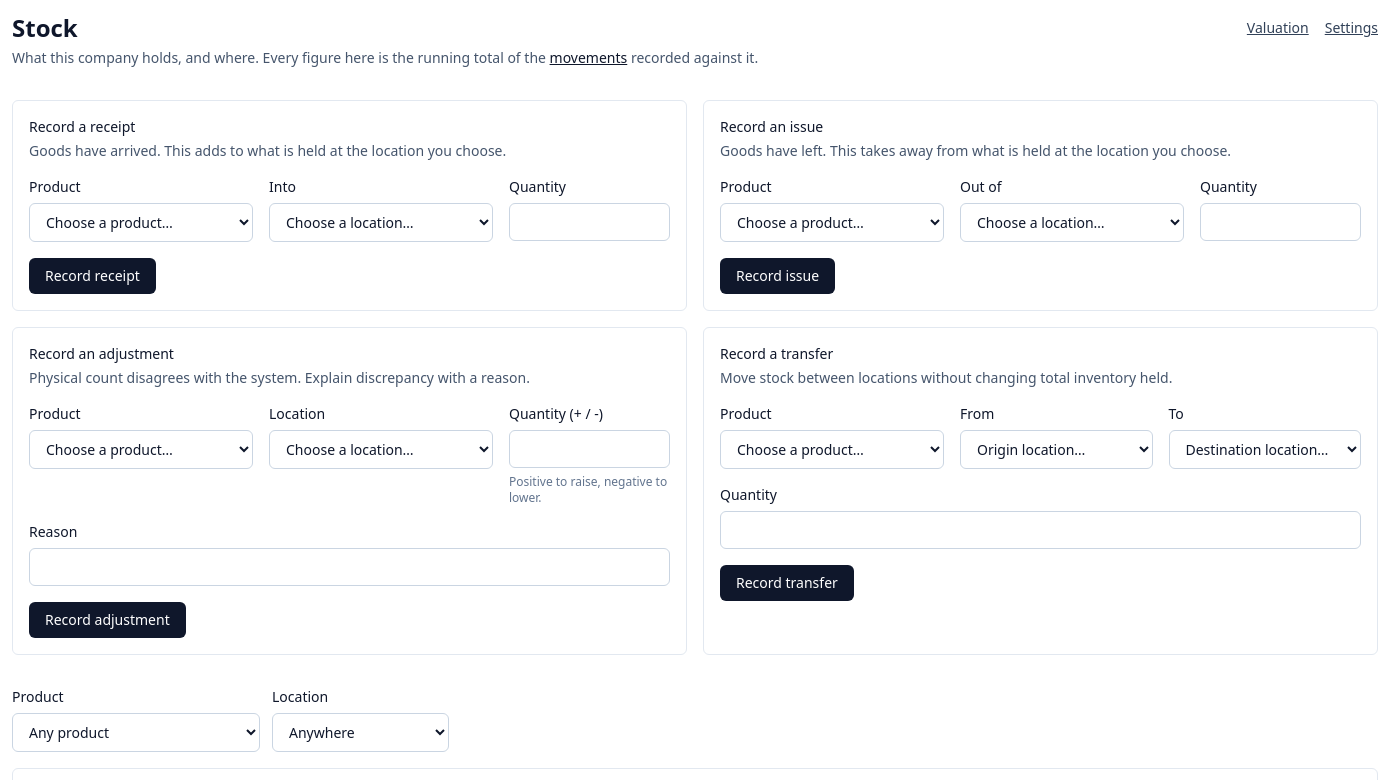
Test: StockPage › recording a receipt › shows a refusal that belongs to no particular box
Select "WIDGET-1 — WIDGET-1 widget" in the dropdown labelled "Product" below "Into" at [141, 222], box x1=29 y1=203 x2=253 y2=242
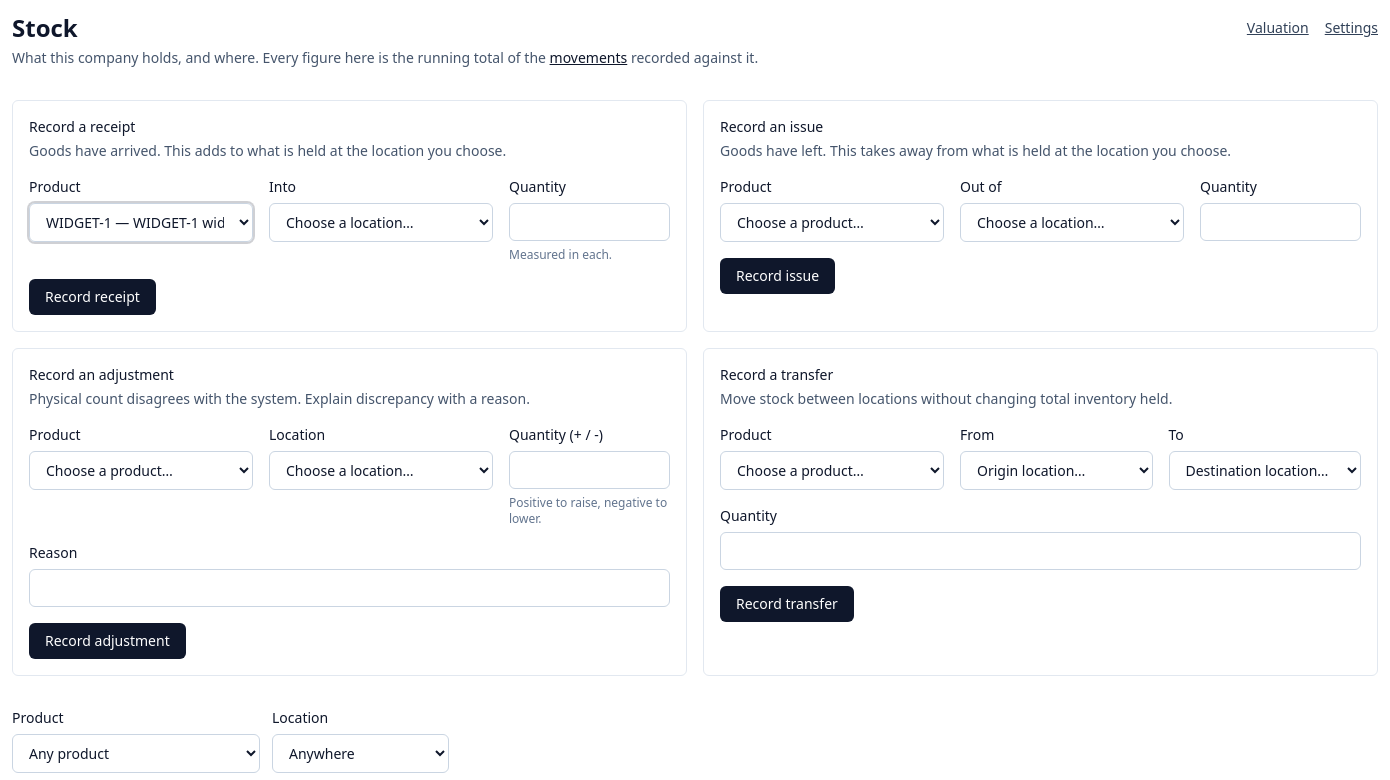
Select "WH-1 — WH-1 store" in the dropdown labelled "Into" at [381, 222], box x1=269 y1=203 x2=493 y2=242
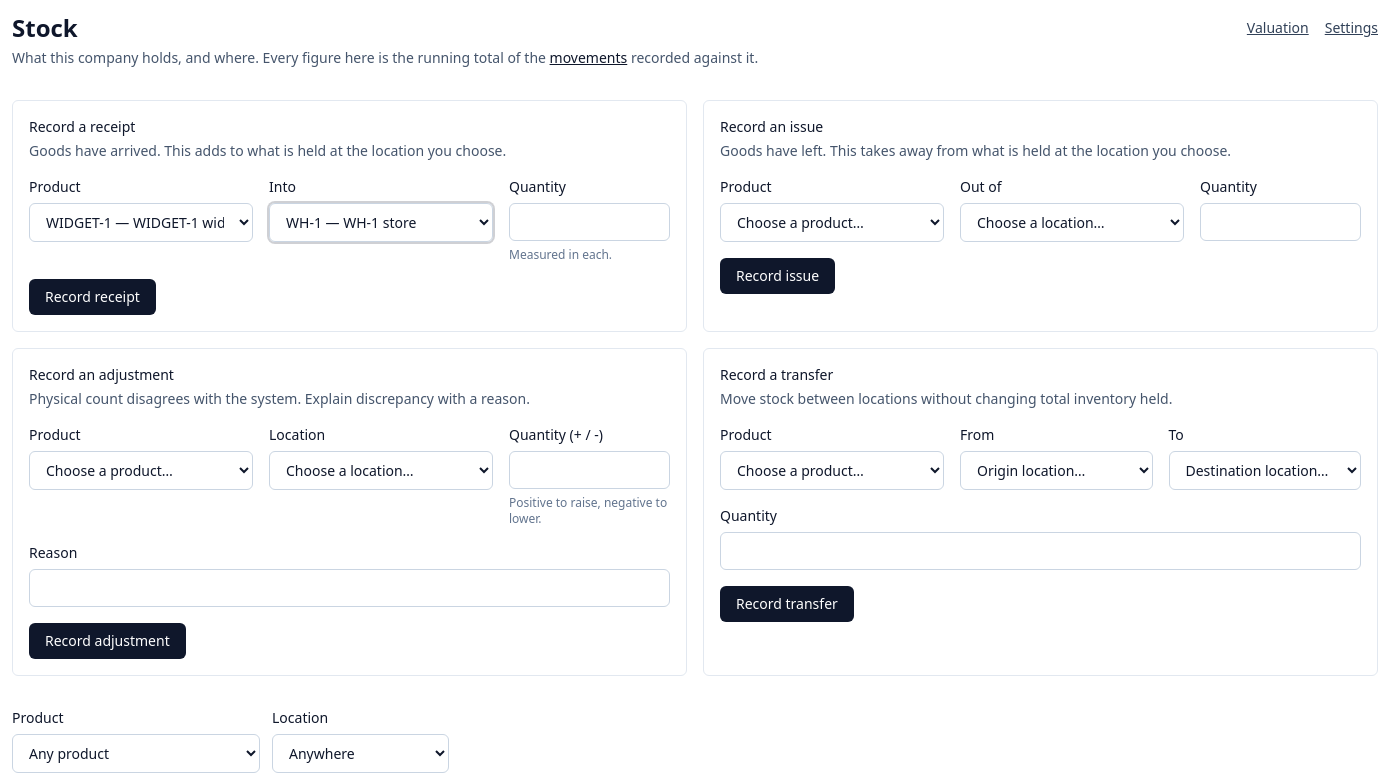
Type "1" into the field labelled "Quantity" below "Into" at [590, 222], box x1=509 y1=203 x2=670 y2=241
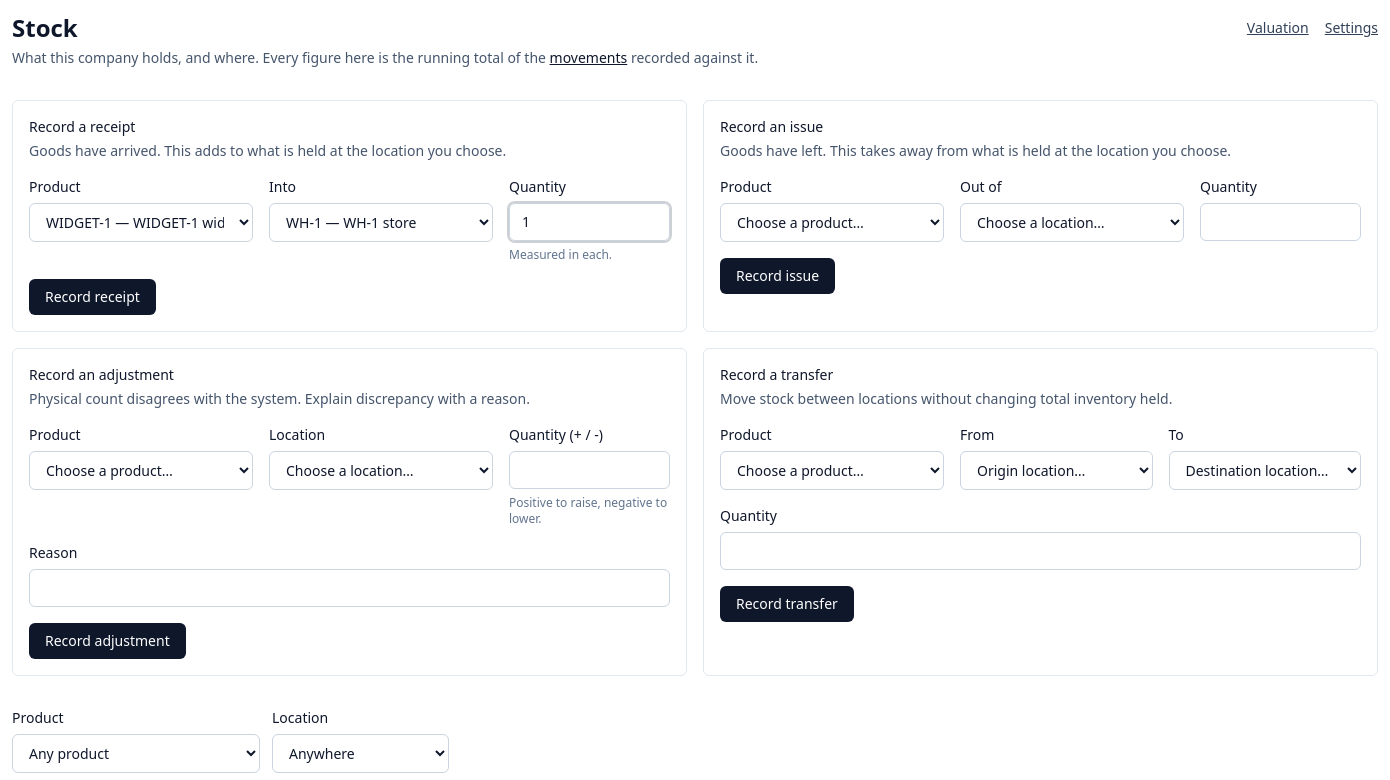
Click the button "Record receipt" at [92, 297], box x1=29 y1=279 x2=156 y2=315
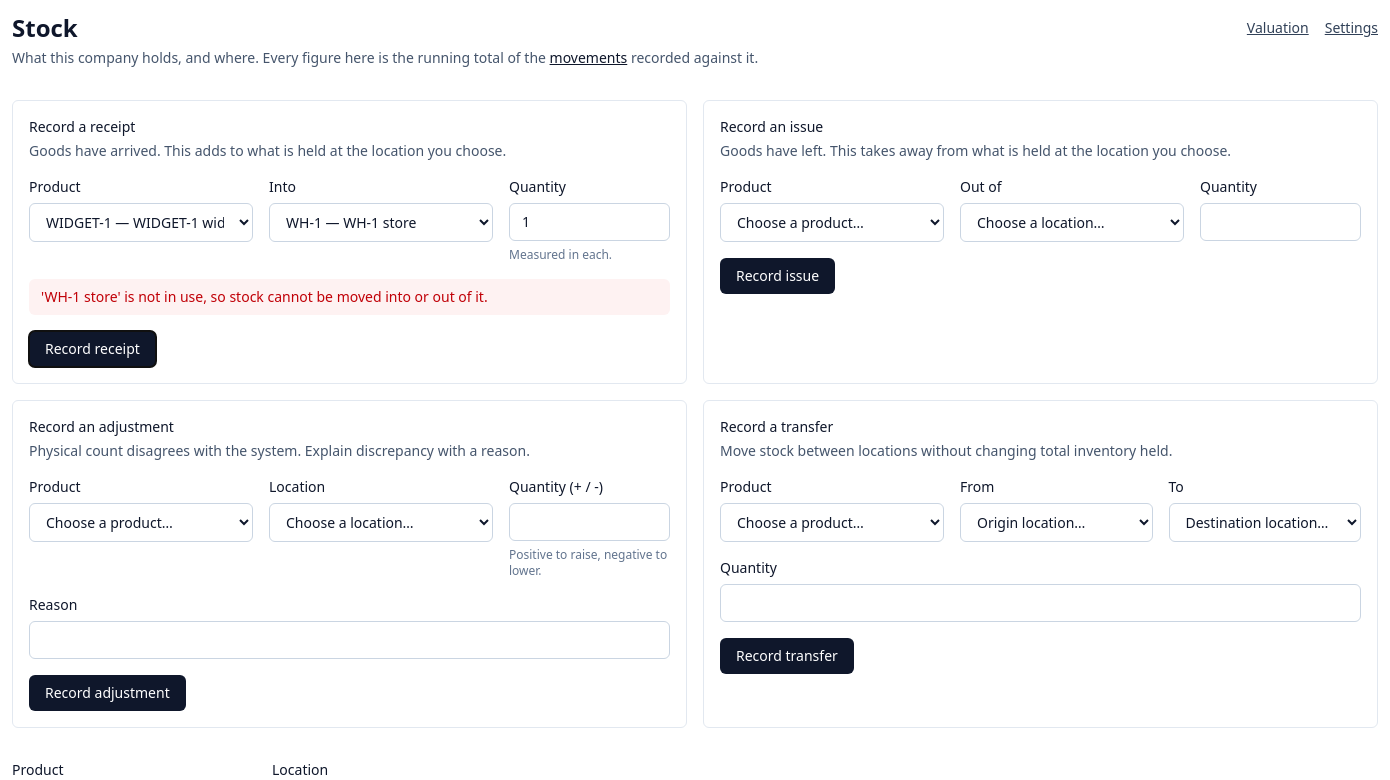
Expected: the text "'WH-1 store' is not in use, so stock cannot be moved into or out of it." is shown, x1=29 y1=279 x2=670 y2=315
